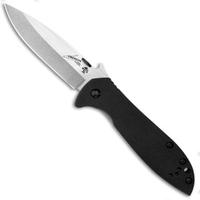knife: (3, 2, 191, 185)
